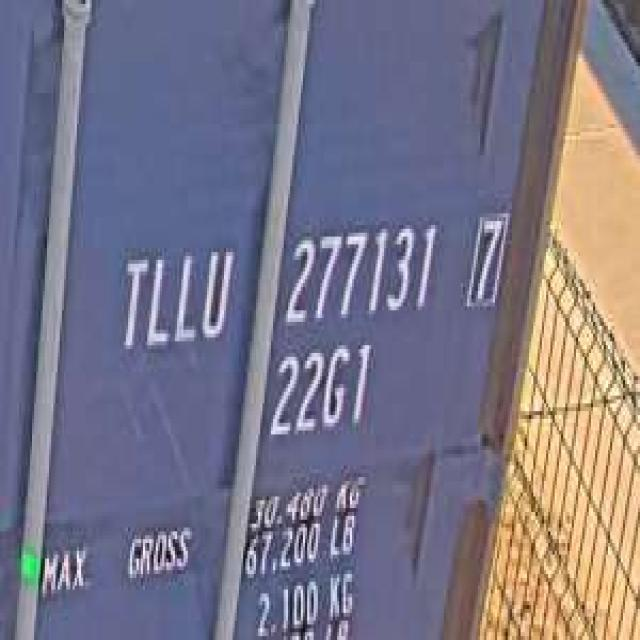dv: (461, 202, 510, 314)
owner: (113, 232, 237, 360)
serial: (280, 213, 440, 330)
size: (266, 334, 376, 446)
